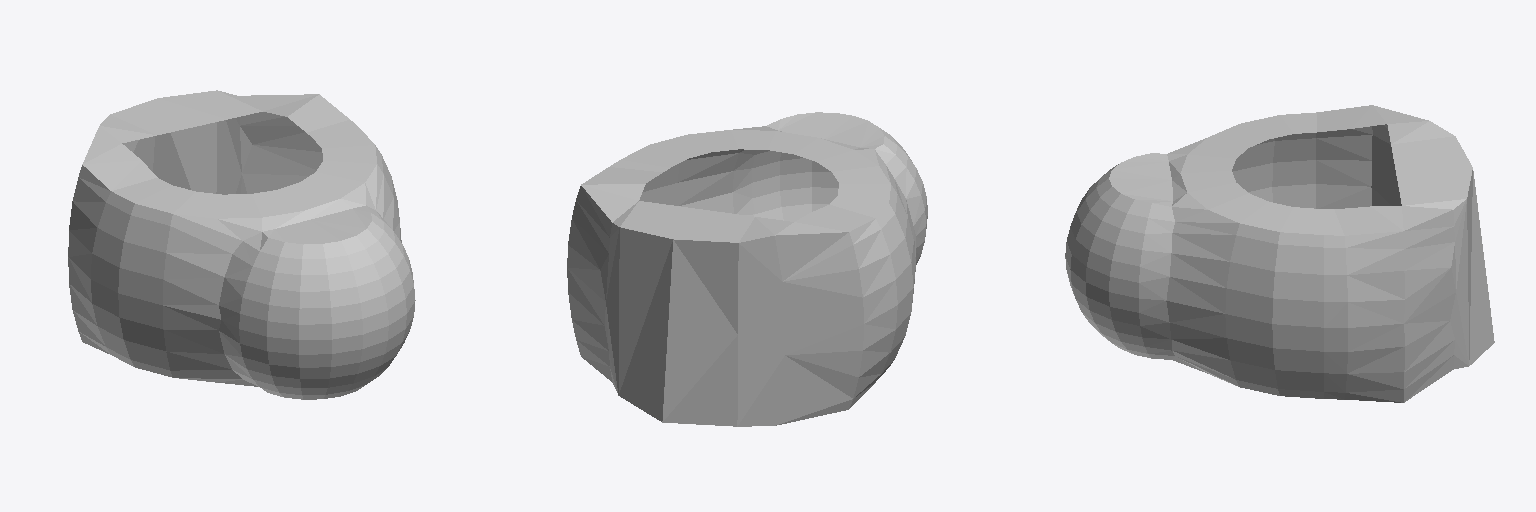
The model's file is HipRoll.obj.
The picture shows the model from 3 angles: view 1: azimuth 30°, elevation 25°; view 2: azimuth 150°, elevation 25°; view 3: azimuth 270°, elevation 25°; orthographic projection.
Parts seen in each view (by area): view 1: HipRoll_GROUPE_01 JULIETT.000; view 2: HipRoll_GROUPE_01 JULIETT.000; view 3: HipRoll_GROUPE_01 JULIETT.000.
Part boxes in pixels (x1,y1,x2,y2): HipRoll_GROUPE_01 JULIETT.000: (68, 90, 415, 399); HipRoll_GROUPE_01 JULIETT.000: (567, 112, 927, 426); HipRoll_GROUPE_01 JULIETT.000: (1065, 105, 1494, 402).
Size of the model in its own units: 1.62 by 1 by 2.05.